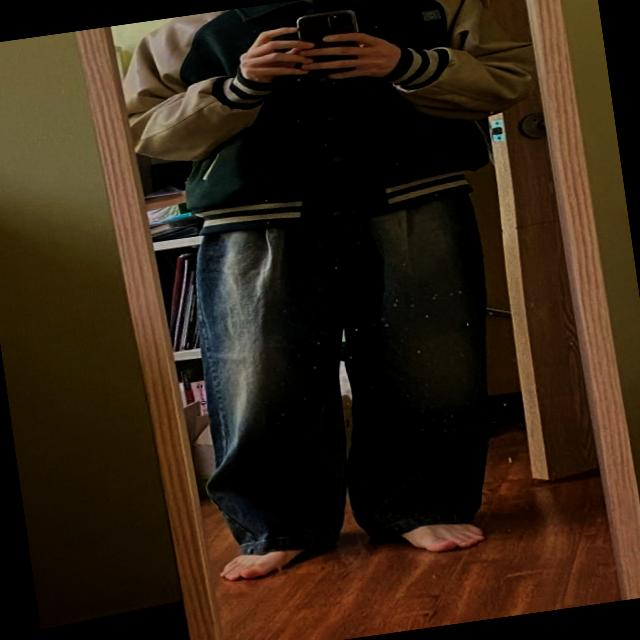denimpants: (178, 184, 528, 566)
jacket: (113, 0, 554, 247)
